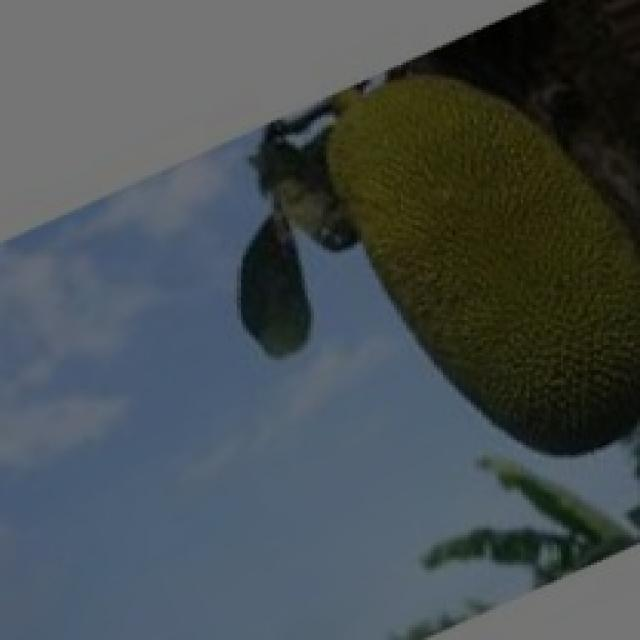Fruit: (255, 33, 640, 475)
